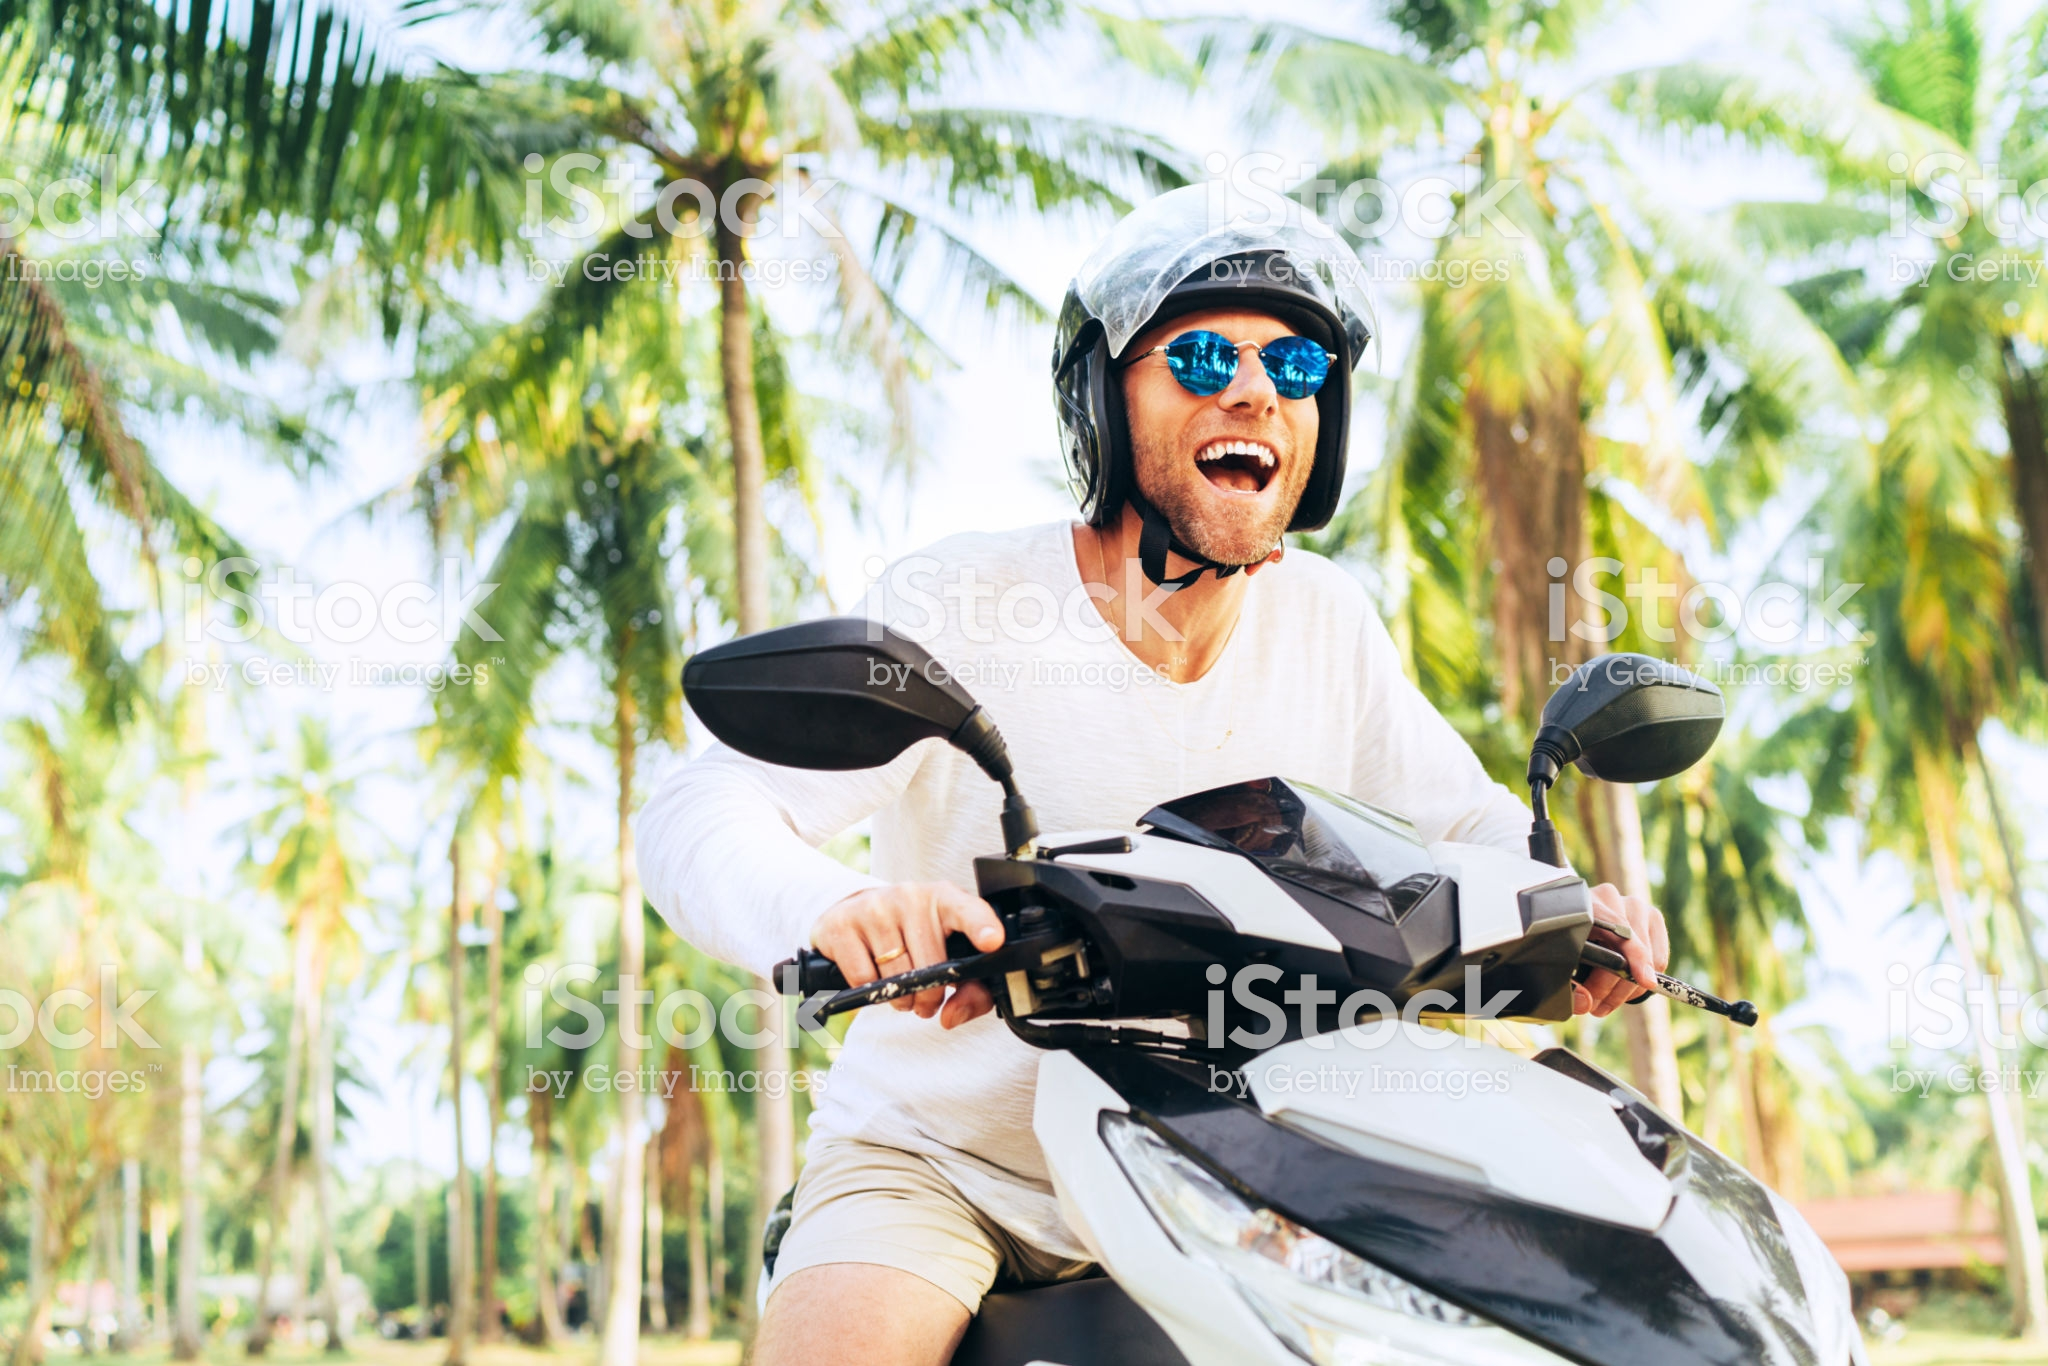helmet: (1027, 183, 1388, 538)
